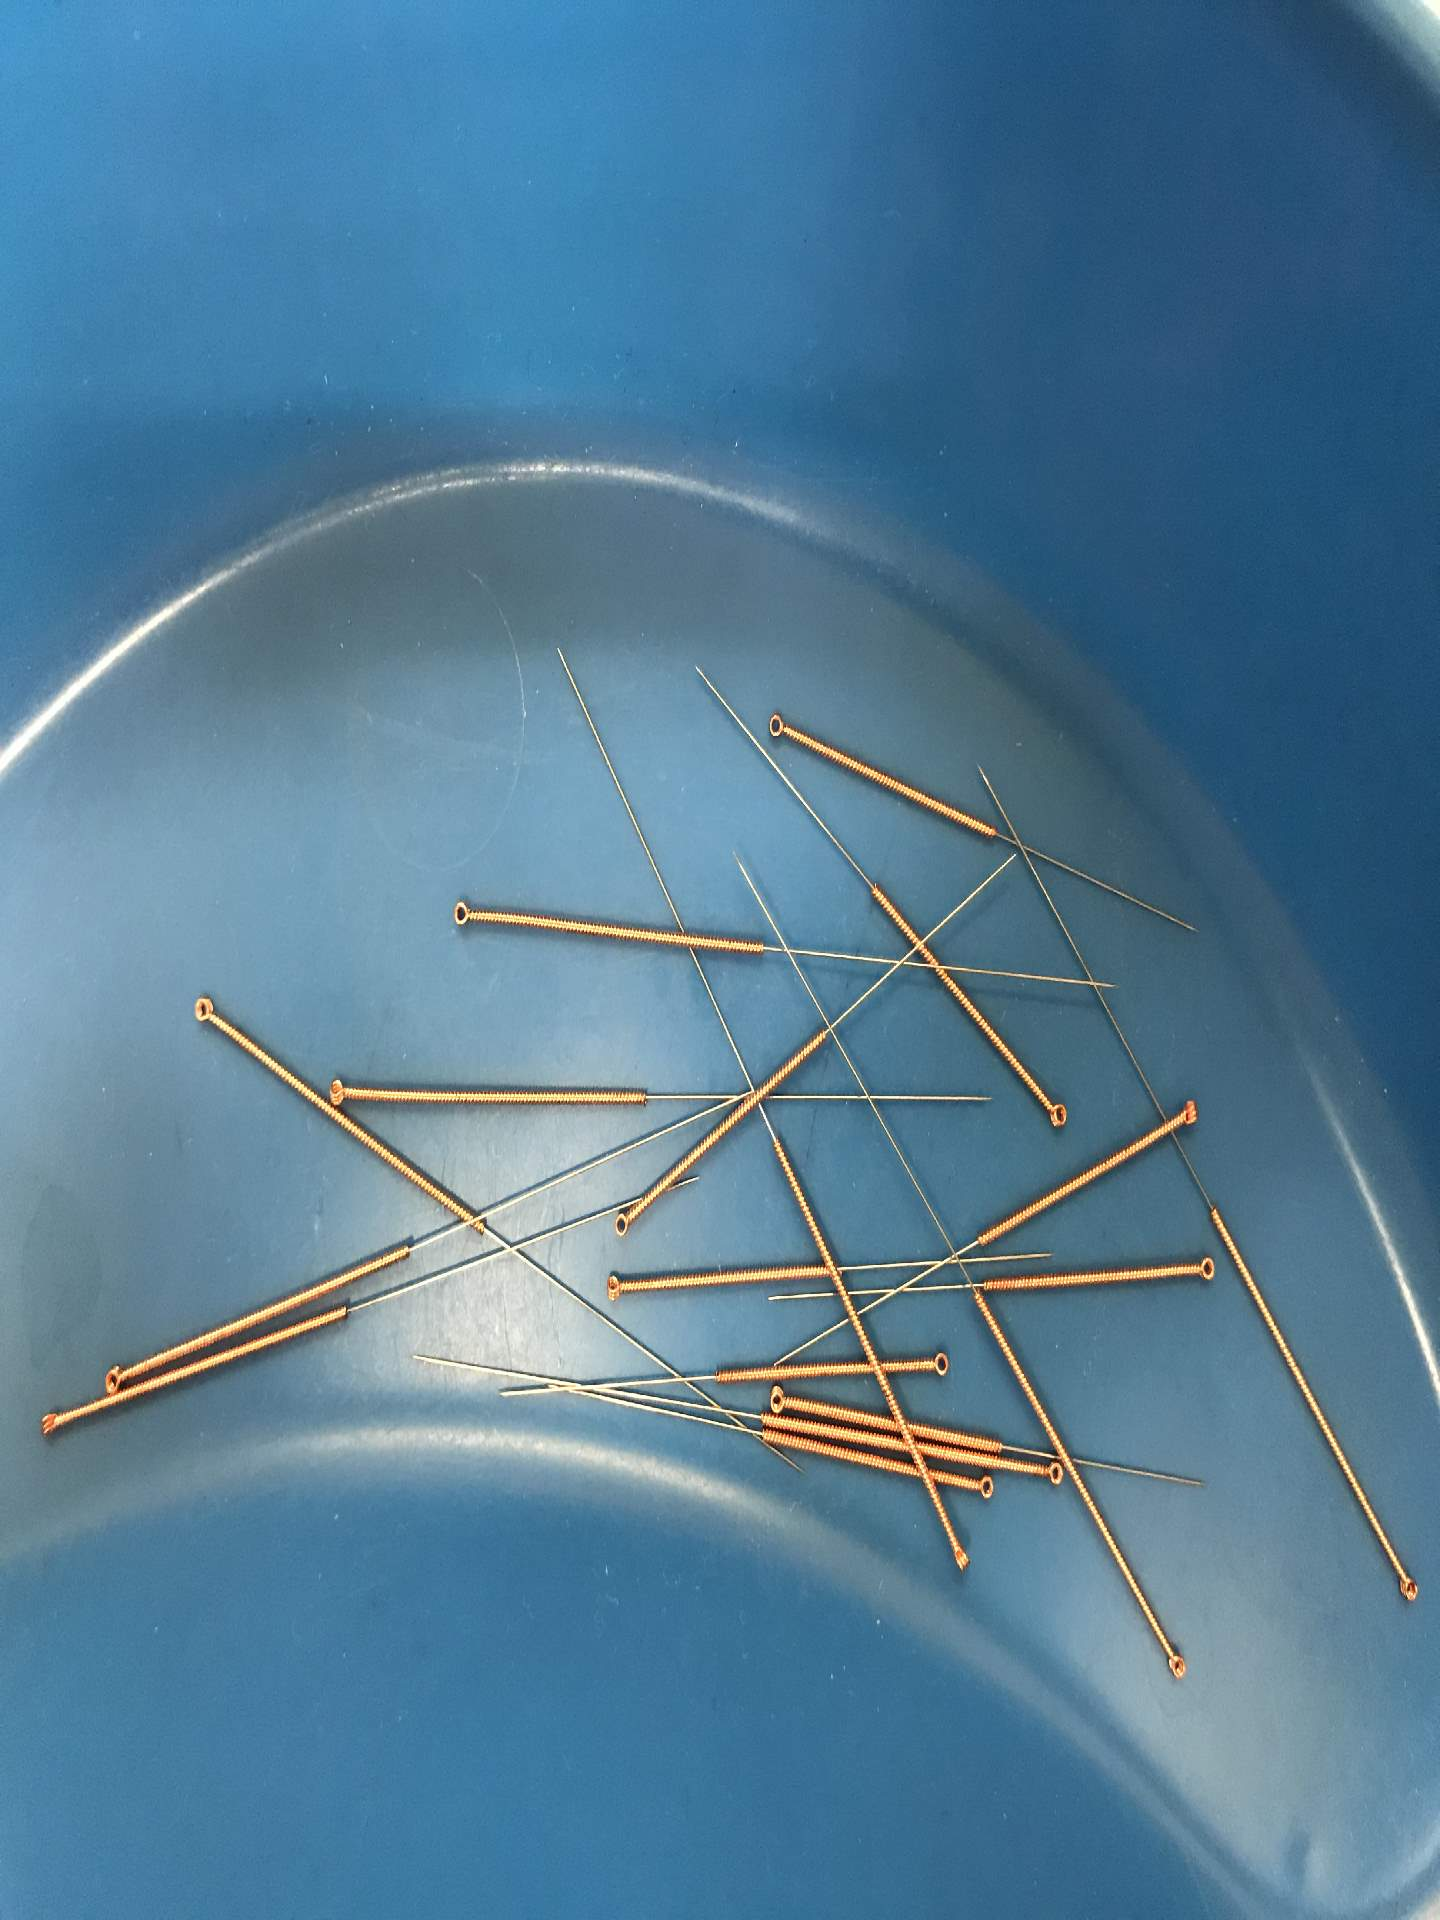needle: (442, 887, 483, 943), (182, 986, 230, 1033), (604, 1196, 649, 1246), (756, 701, 797, 748), (324, 1070, 368, 1111), (594, 1267, 638, 1308), (1157, 1643, 1196, 1689), (1038, 1092, 1075, 1138), (29, 1404, 71, 1445), (920, 1342, 959, 1385), (1392, 1565, 1425, 1612), (941, 1538, 979, 1578), (1171, 1092, 1207, 1134), (1187, 1249, 1225, 1288), (967, 1469, 1004, 1504), (759, 1383, 799, 1417), (1035, 1457, 1066, 1491), (103, 1361, 132, 1397)
